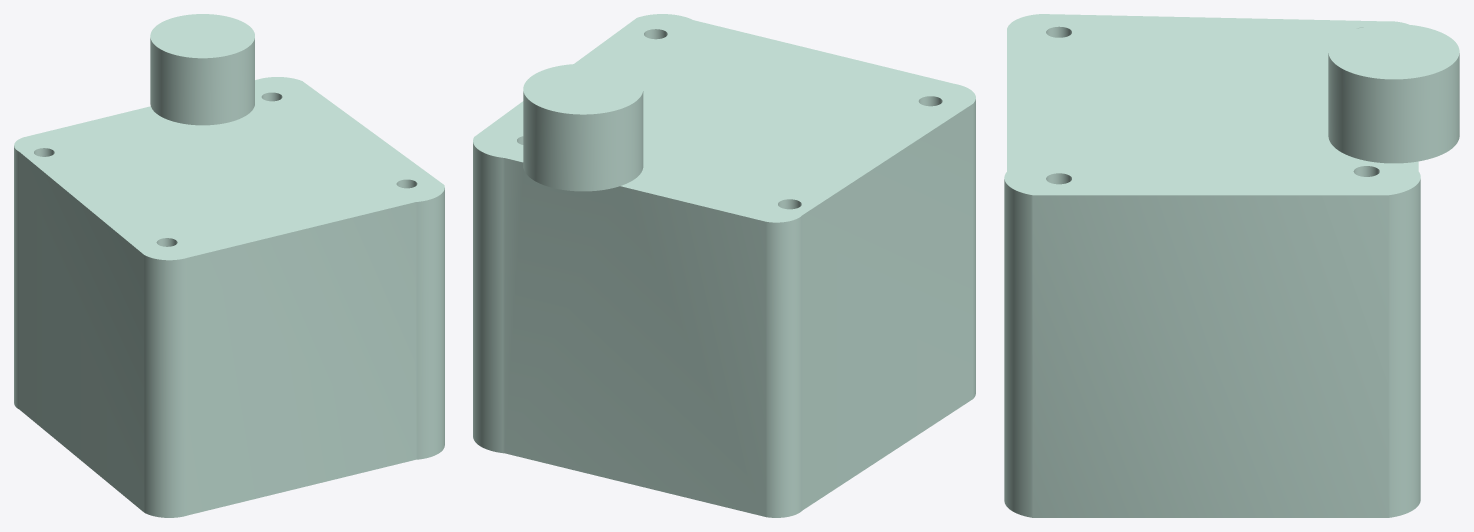
The picture shows the model from 3 angles, left to right: view 1: azimuth 30°, elevation 25°; view 2: azimuth 150°, elevation 25°; view 3: azimuth 270°, elevation 25°; orthographic projection. The views are drawn at different scales.
Parts seen in each view (by area): view 1: Renderer Node; view 2: Renderer Node; view 3: Renderer Node.
Boxes of the visible parts, left/top/right/bottom form: Renderer Node: left=14, top=14, right=444, bottom=517; Renderer Node: left=473, top=14, right=975, bottom=517; Renderer Node: left=1004, top=14, right=1459, bottom=517.
Bounding box in the file's own units: 0.9037 × 0.9453 × 0.9588.
